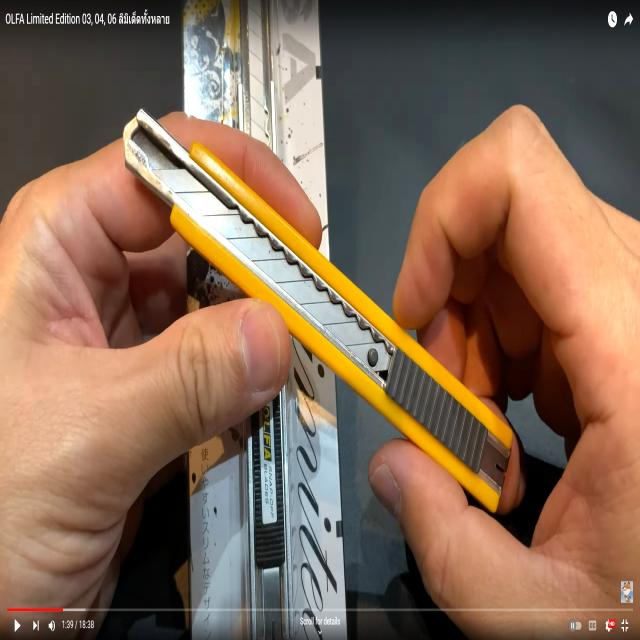cutter: (0, 81, 640, 540)
